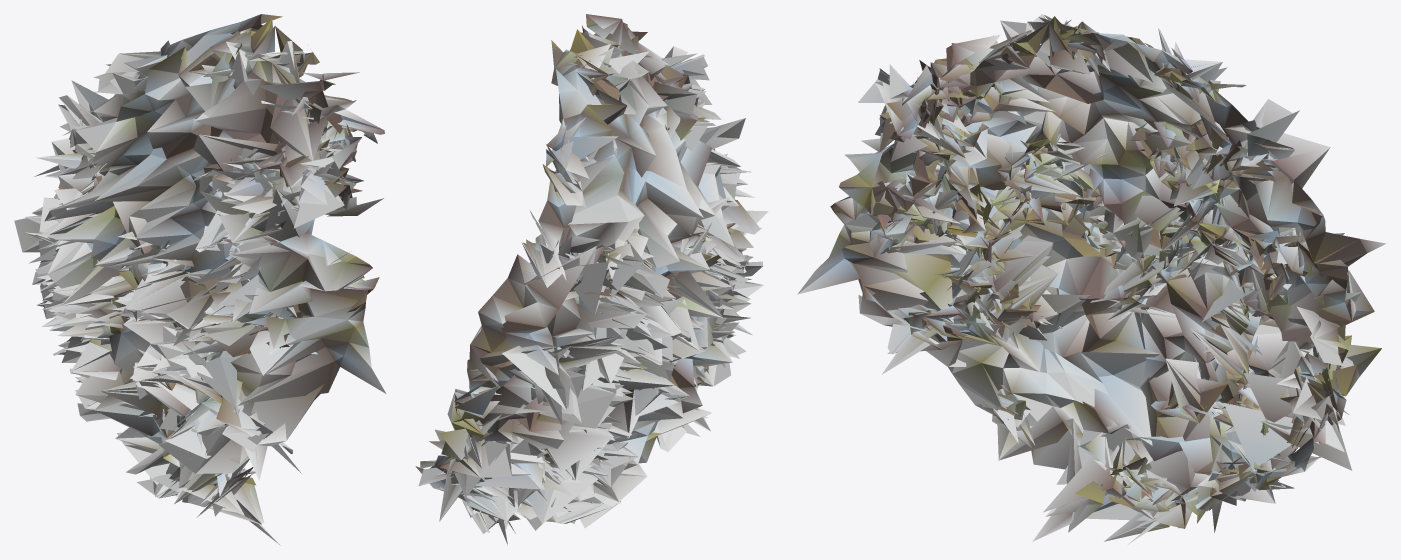
The picture shows the model from 3 angles, left to right: view 1: azimuth 30°, elevation 25°; view 2: azimuth 150°, elevation 25°; view 3: azimuth 270°, elevation 25°; orthographic projection. The views are drawn at different scales.
Bounding box in the file's own units: 0.4357 × 0.8924 × 0.9049.
